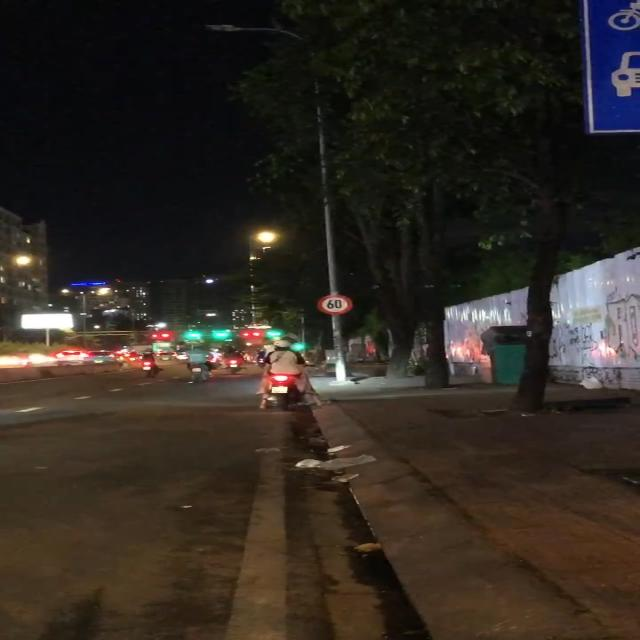Bien bao toc do toi da cho phep: (316, 293, 356, 315)
